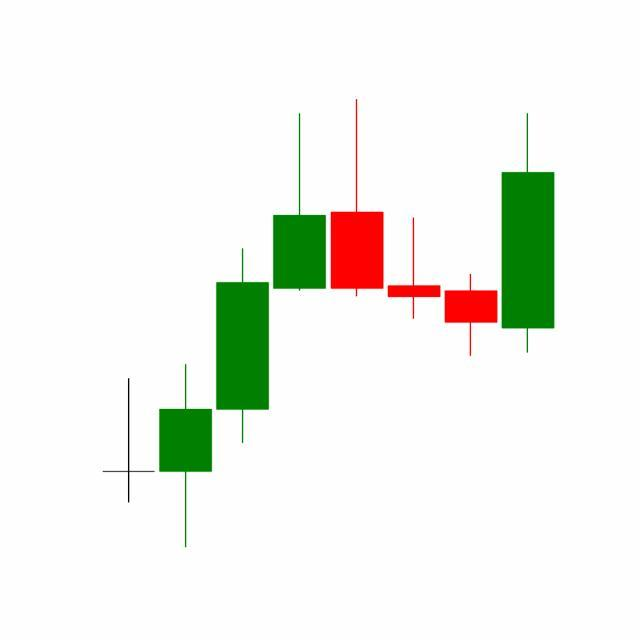Three Line Strike: (326, 100, 555, 361)
